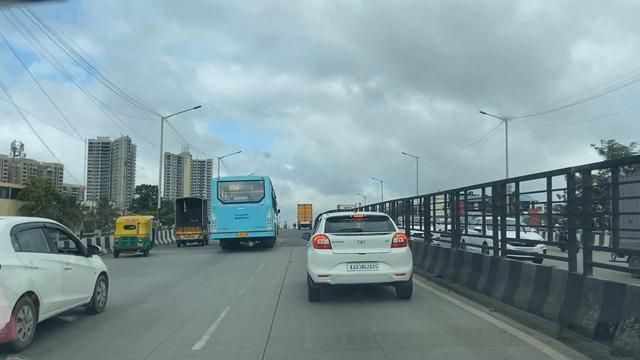HMV: (204, 164, 284, 253), (173, 193, 209, 250), (295, 199, 314, 234)
LMV: (0, 196, 120, 352), (287, 205, 422, 304), (106, 210, 156, 258)
